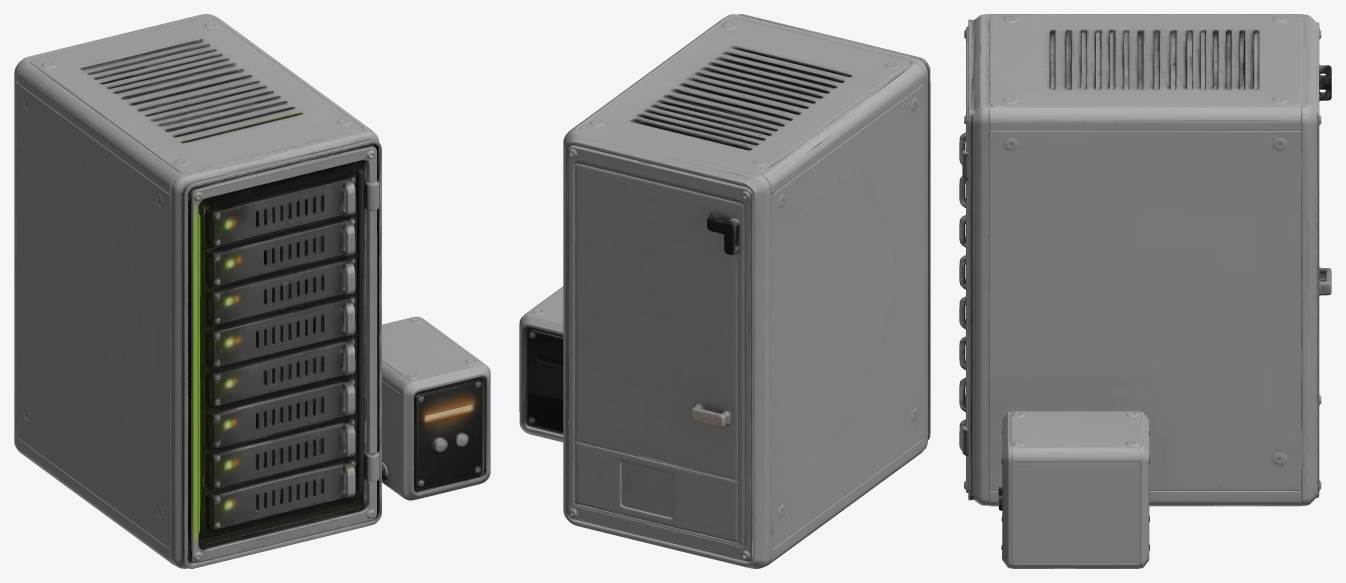
File: launch-server-sd.glb
3 views of the same model, side by side, from view 1: azimuth 30°, elevation 25°; view 2: azimuth 150°, elevation 25°; view 3: azimuth 270°, elevation 25° (orthographic).
Parts seen in each view (by area): view 1: material; view 2: material; view 3: material.
Part boxes in pixels (bbox=[...]): material: bbox=[14, 14, 490, 568]; material: bbox=[519, 14, 930, 568]; material: bbox=[959, 14, 1331, 568].
Size of the model in its own units: 1.41 by 1.6 by 1.35.
Materials: 1 (1 with a texture image).
